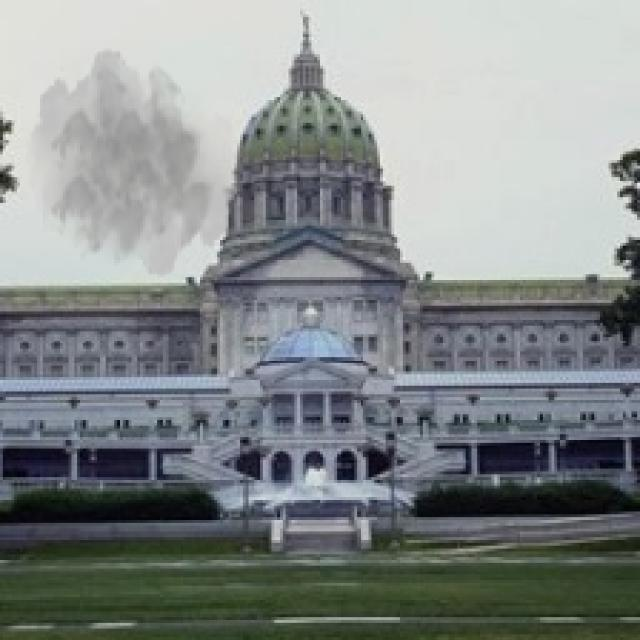smoke: (26, 46, 243, 280)
